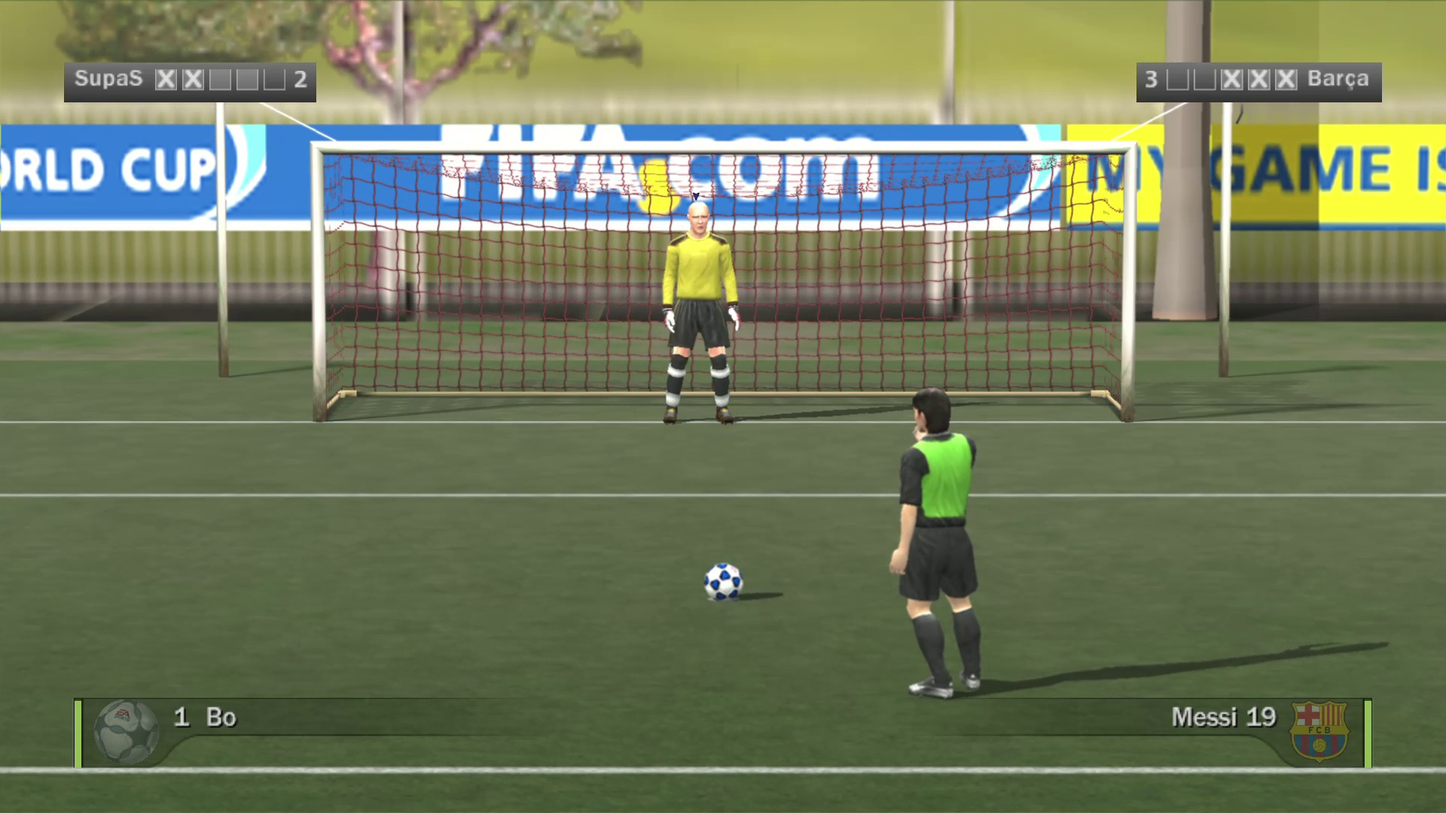ball: (675, 524, 725, 580)
goal_post: (0, 33, 720, 286)
keeper: (608, 86, 698, 309)
kicker: (836, 221, 943, 538)
